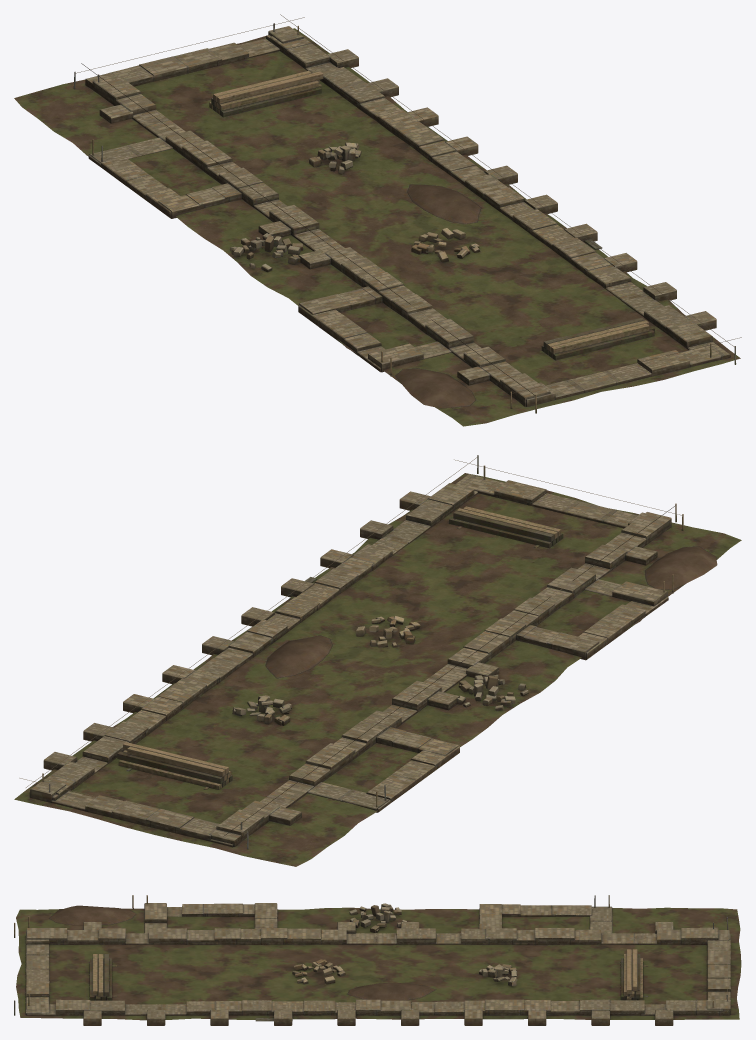
File: tithe_barn_build1.glb
3 renders of one model, top to bottom at view 1: azimuth 30°, elevation 25°; view 2: azimuth 150°, elevation 25°; view 3: azimuth 270°, elevation 25°, orthographic. The views are drawn at different scales.
Visible parts, largest first — view 1: tithe_barn_build1_LOD0; view 2: tithe_barn_build1_LOD0; view 3: tithe_barn_build1_LOD0.
Part boxes in pixels (left/top/right/bottom): tithe_barn_build1_LOD0: left=14, top=14, right=741, bottom=426; tithe_barn_build1_LOD0: left=14, top=455, right=741, bottom=866; tithe_barn_build1_LOD0: left=14, top=895, right=741, bottom=1025.
Size of what is drawn, in the model's own units: 13.58 by 0.9202 by 35.63.
Materials: 1 (1 with a texture image).
